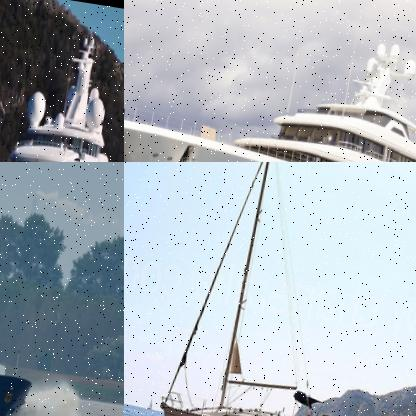Patrol Boat: (0, 162, 65, 415)
Sails Boat: (153, 162, 373, 415), (146, 398, 153, 409)
Yacht: (124, 0, 415, 161), (0, 18, 123, 161)
